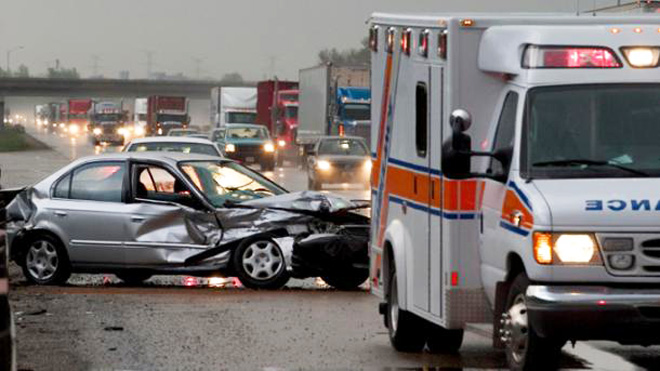car: (25, 152, 316, 273)
truck: (363, 8, 656, 344)
